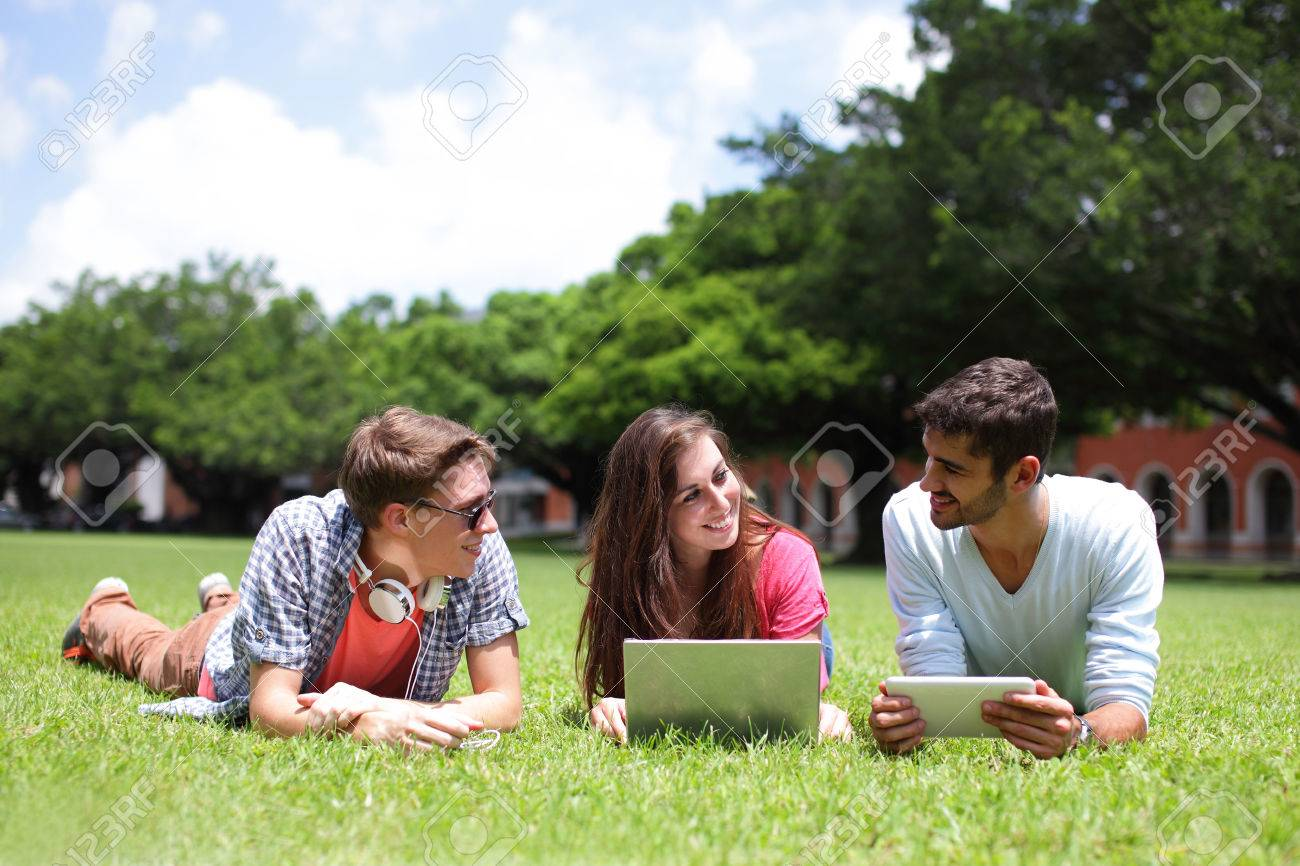Person: (60, 405, 529, 747), (862, 355, 1164, 756), (577, 406, 829, 639)
